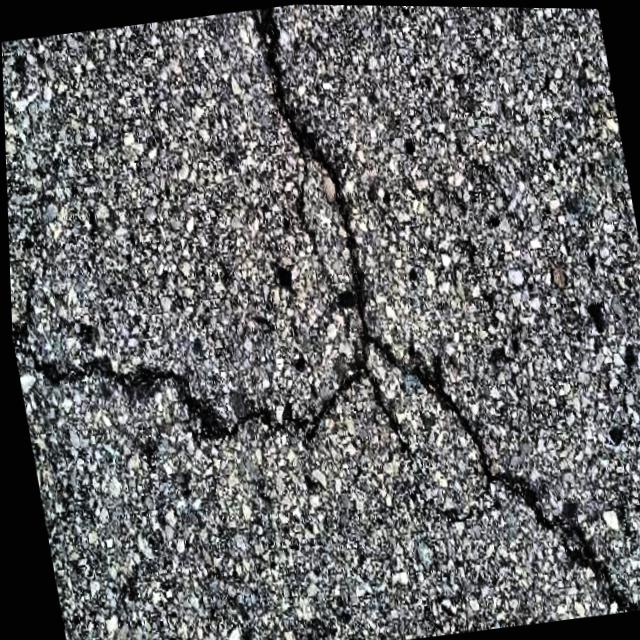cracks: (253, 8, 495, 482), (12, 293, 370, 440), (505, 481, 637, 613)
